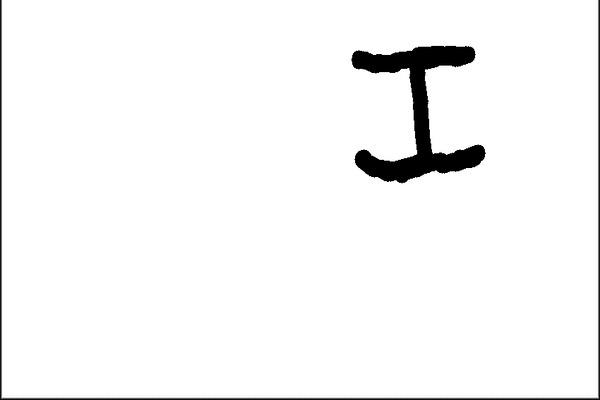i: (340, 40, 496, 193)
